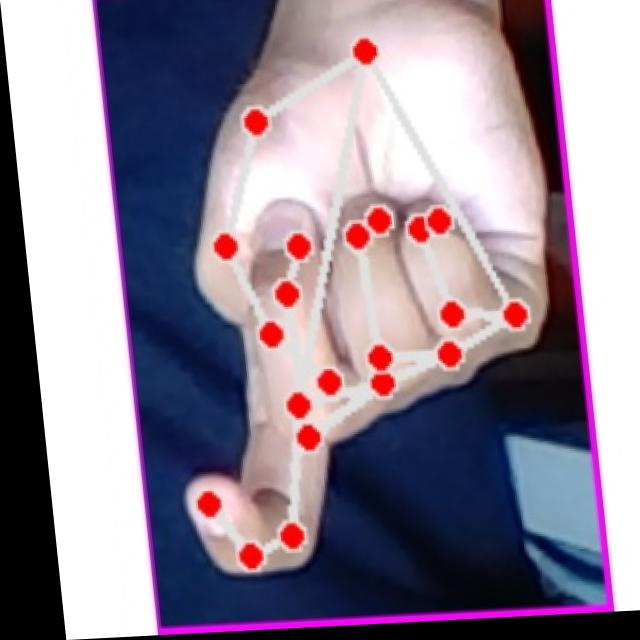Z: (122, 18, 580, 584)
